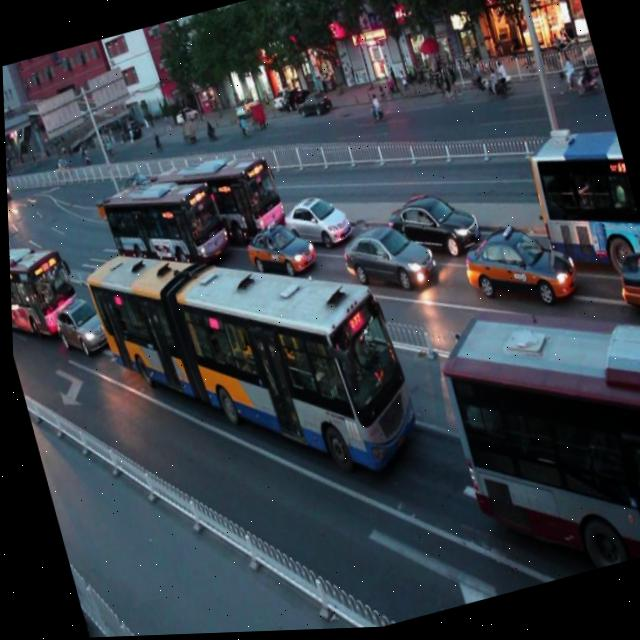car: (455, 219, 582, 340), (332, 217, 436, 317), (383, 187, 483, 279), (237, 216, 317, 295), (275, 189, 353, 267), (49, 293, 111, 361), (606, 246, 640, 329)
van: (75, 189, 427, 539), (429, 274, 640, 599), (519, 120, 640, 286), (95, 162, 234, 300), (150, 139, 290, 269), (7, 225, 79, 339)
